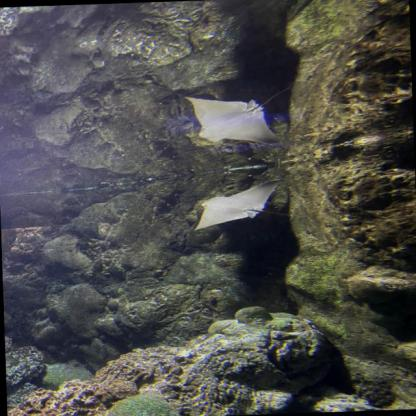stingray: (188, 178, 282, 233), (187, 94, 274, 147)
